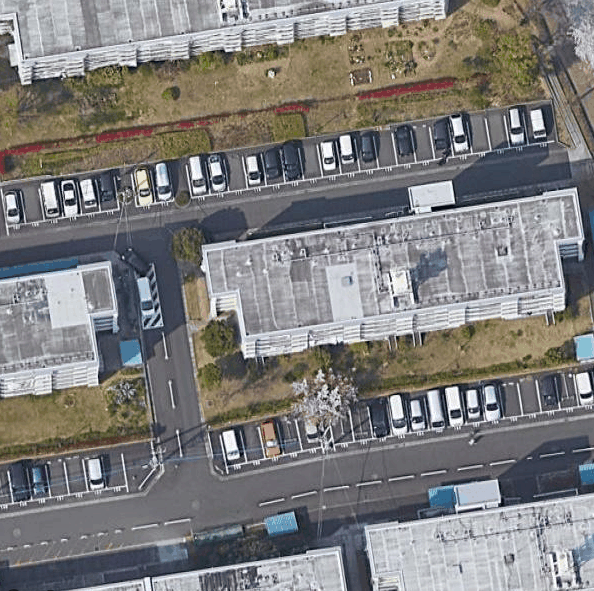flatroof: (204, 181, 584, 345), (0, 0, 315, 87), (361, 503, 592, 589)
